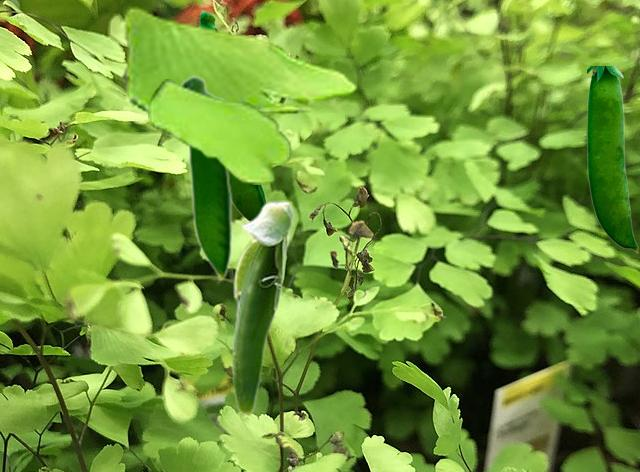pea: (198, 9, 266, 220), (231, 200, 294, 415), (180, 74, 232, 284), (587, 66, 637, 252)
